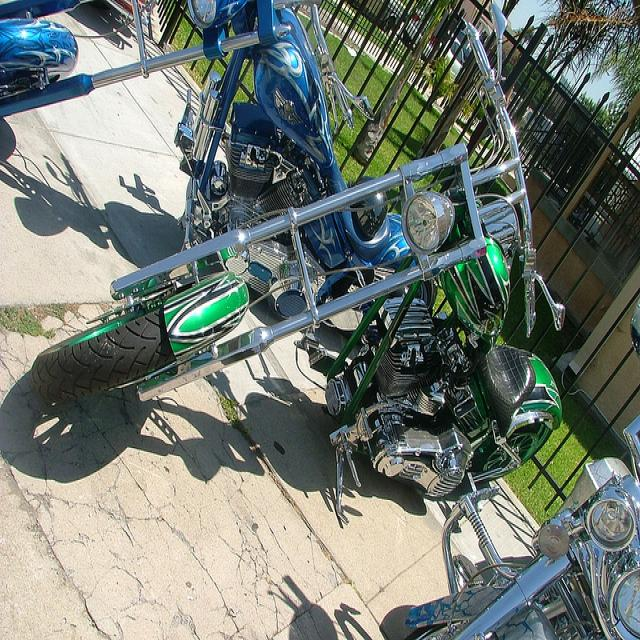motor: (35, 8, 573, 527), (1, 3, 351, 250), (408, 419, 640, 630)
